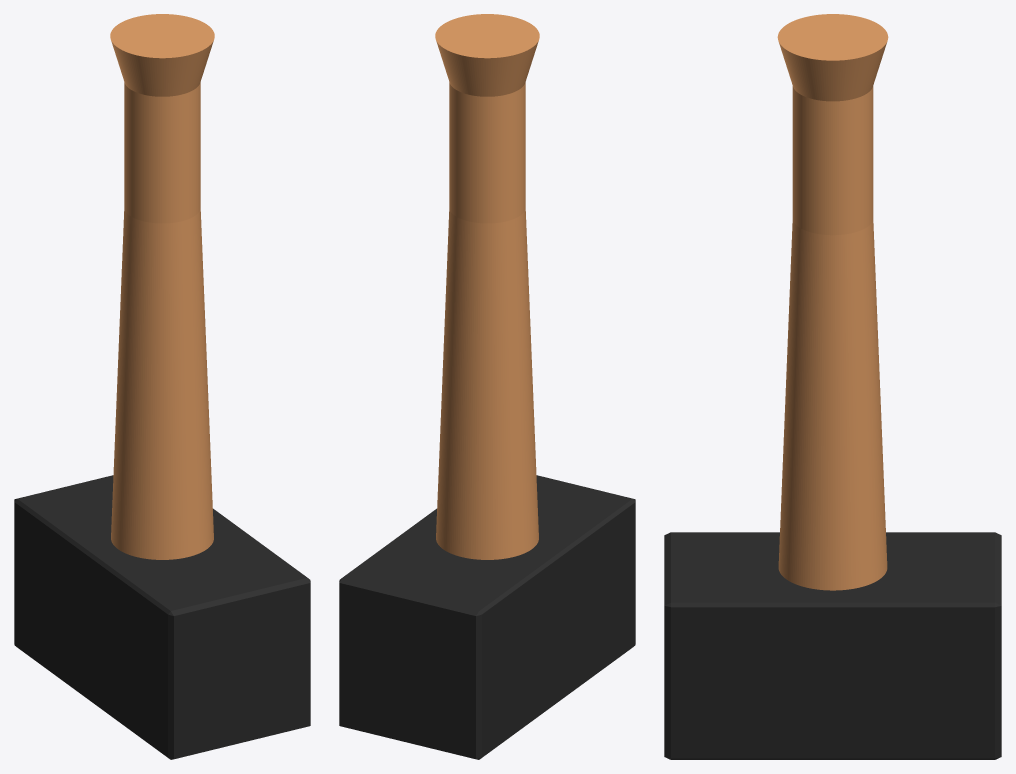
File: Hammer oscar001.fbx
3 renders of one model, left to right at view 1: azimuth 30°, elevation 25°; view 2: azimuth 150°, elevation 25°; view 3: azimuth 270°, elevation 25°, orthographic. The views are drawn at different scales.
Parts seen in each view (by area): view 1: Cylinder; view 2: Cylinder; view 3: Cylinder.
Boxes of the visible parts, bbox=[...] form: Cylinder: bbox=[14, 14, 310, 759]; Cylinder: bbox=[339, 14, 635, 759]; Cylinder: bbox=[664, 14, 1001, 759].
Size of the model in its own units: 268 by 1172 by 521.
